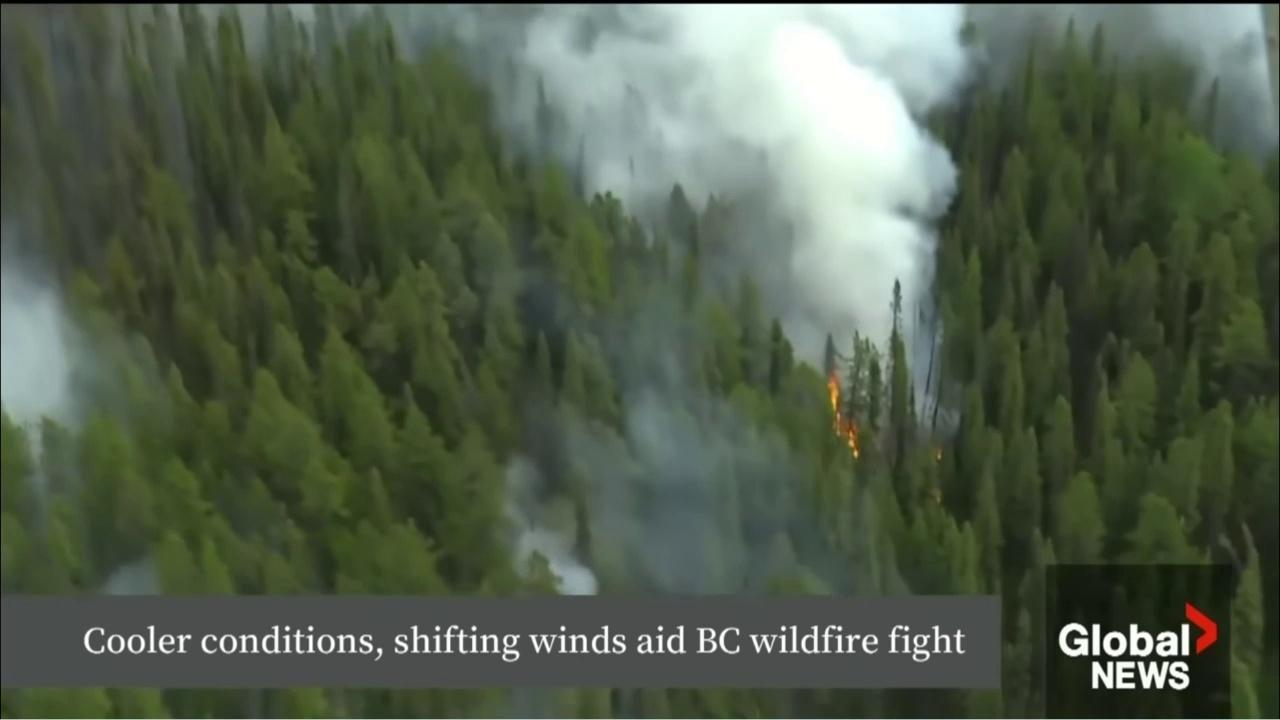fire: (819, 367, 866, 465), (933, 444, 948, 467)
smoke: (156, 5, 1280, 467), (484, 232, 835, 605), (2, 226, 125, 494), (96, 554, 163, 594)
